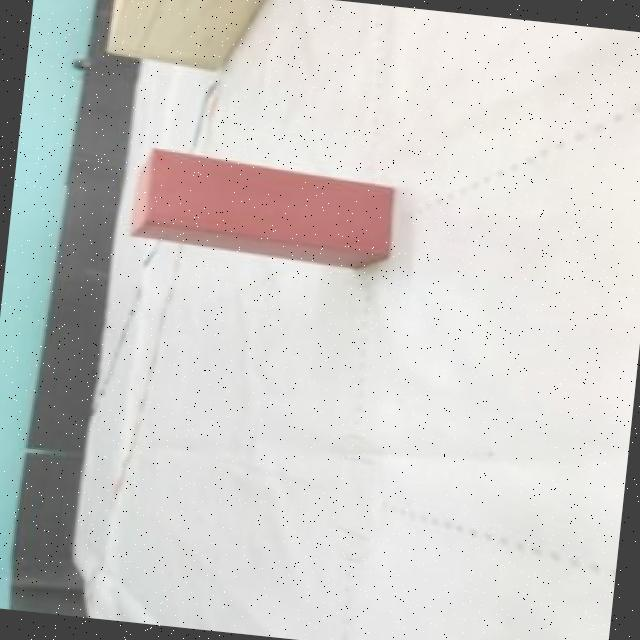redbox: (123, 145, 398, 272)
